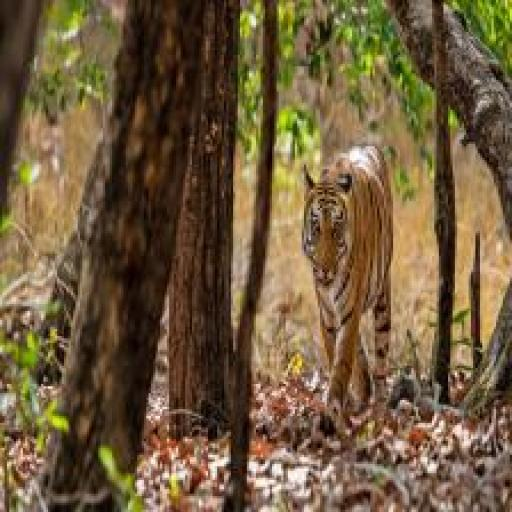Tiger: (279, 140, 425, 412)
